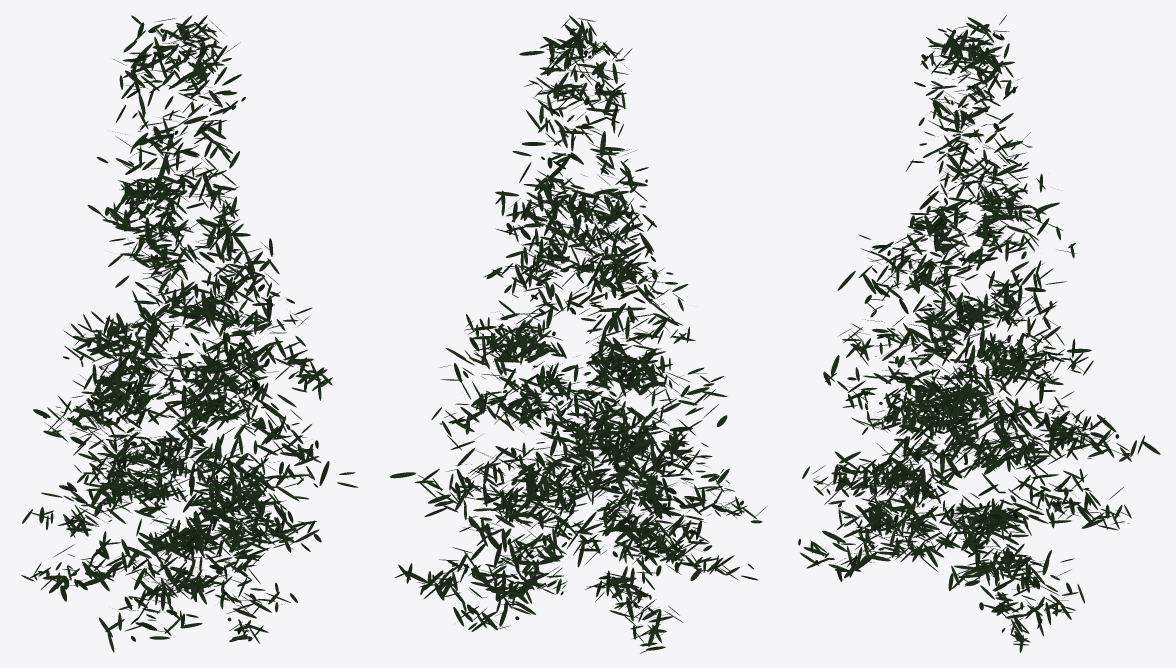
The model's file is landscape-tree-47-far.glb.
The picture shows the model from 3 angles, left to right: view 1: azimuth 30°, elevation 25°; view 2: azimuth 150°, elevation 25°; view 3: azimuth 270°, elevation 25°; orthographic projection. The views are drawn at different scales.
Parts seen in each view (by area): view 1: V6 south conifer 05 needles far; view 2: V6 south conifer 05 needles far; view 3: V6 south conifer 05 needles far.
Part boxes in pixels (<box>): V6 south conifer 05 needles far: <box>21,15,358,652</box>; V6 south conifer 05 needles far: <box>390,15,767,653</box>; V6 south conifer 05 needles far: <box>798,15,1160,652</box>.
Size of the model in its own units: 5.3 by 9.34 by 5.41.
Materials: 1 (1 with a texture image).
